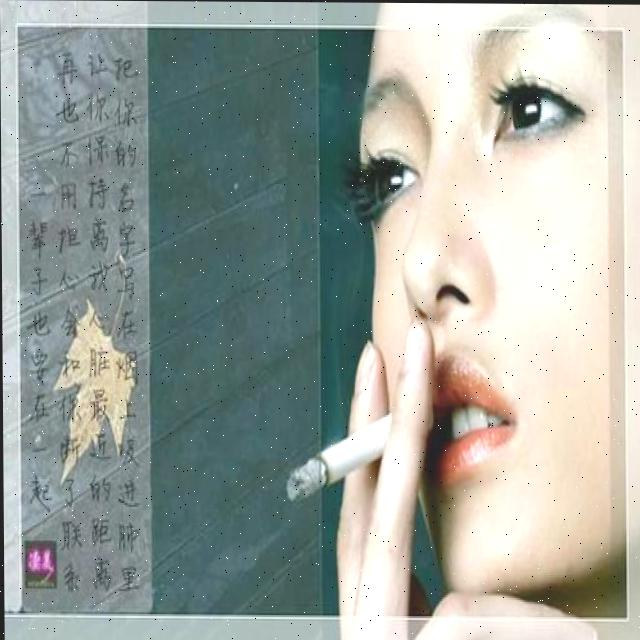cigarette: (288, 415, 393, 501)
